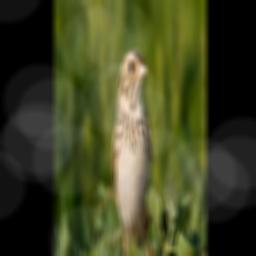Sparrow: (111, 43, 154, 256)
